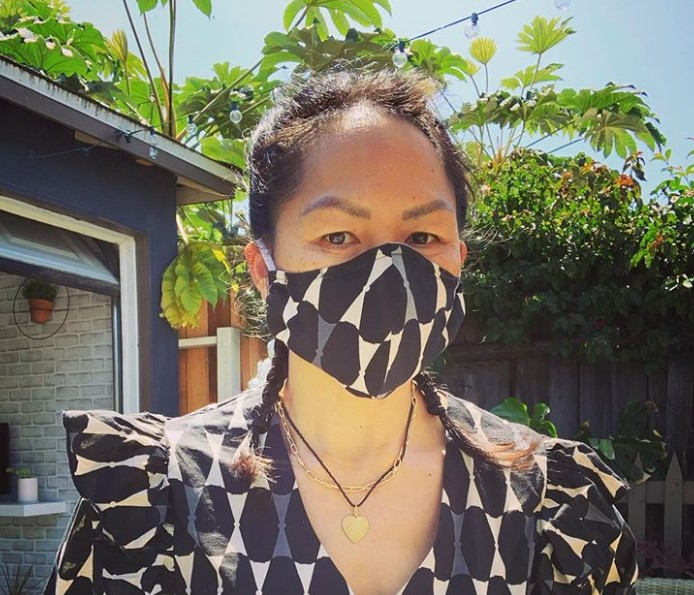face_with_mask: (242, 65, 474, 405)
